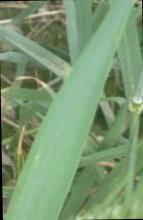Wheat: (13, 90, 96, 214)
